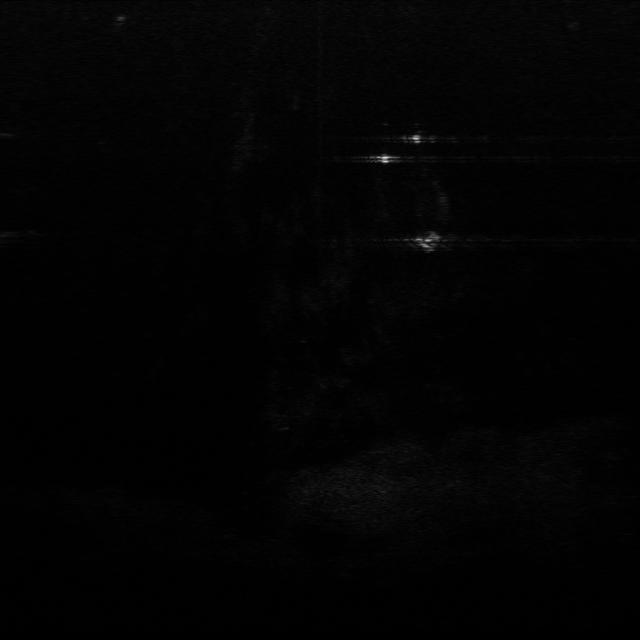rov: (408, 232, 444, 250)
